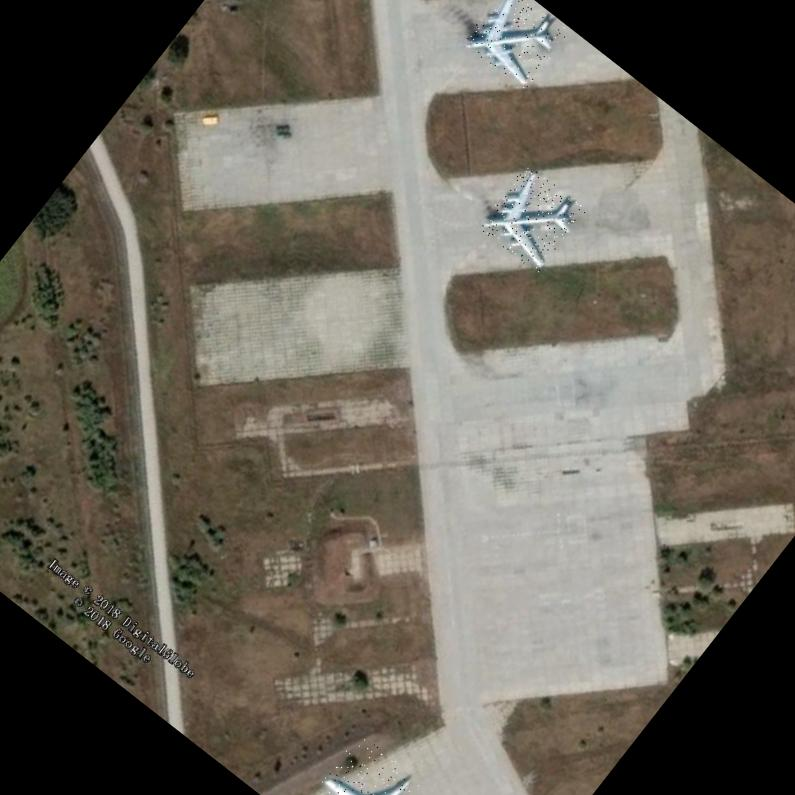A17: (477, 162, 587, 274), (461, 0, 569, 91)
A6: (292, 732, 445, 795)
